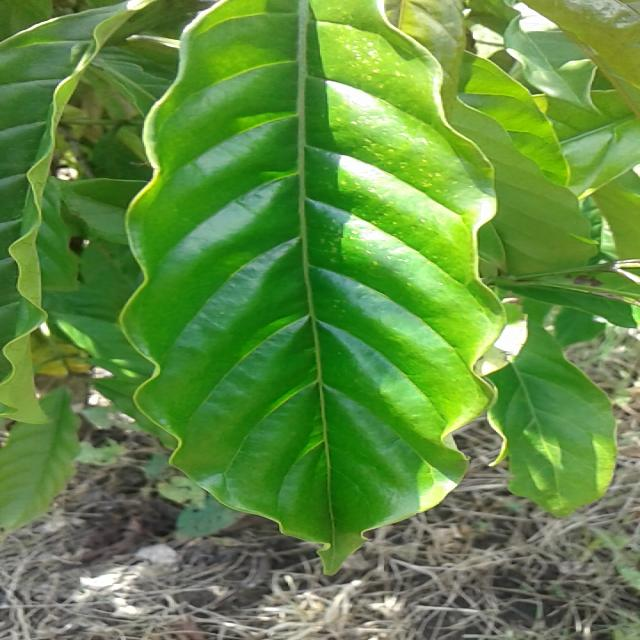Sanas: (116, 0, 527, 575)
